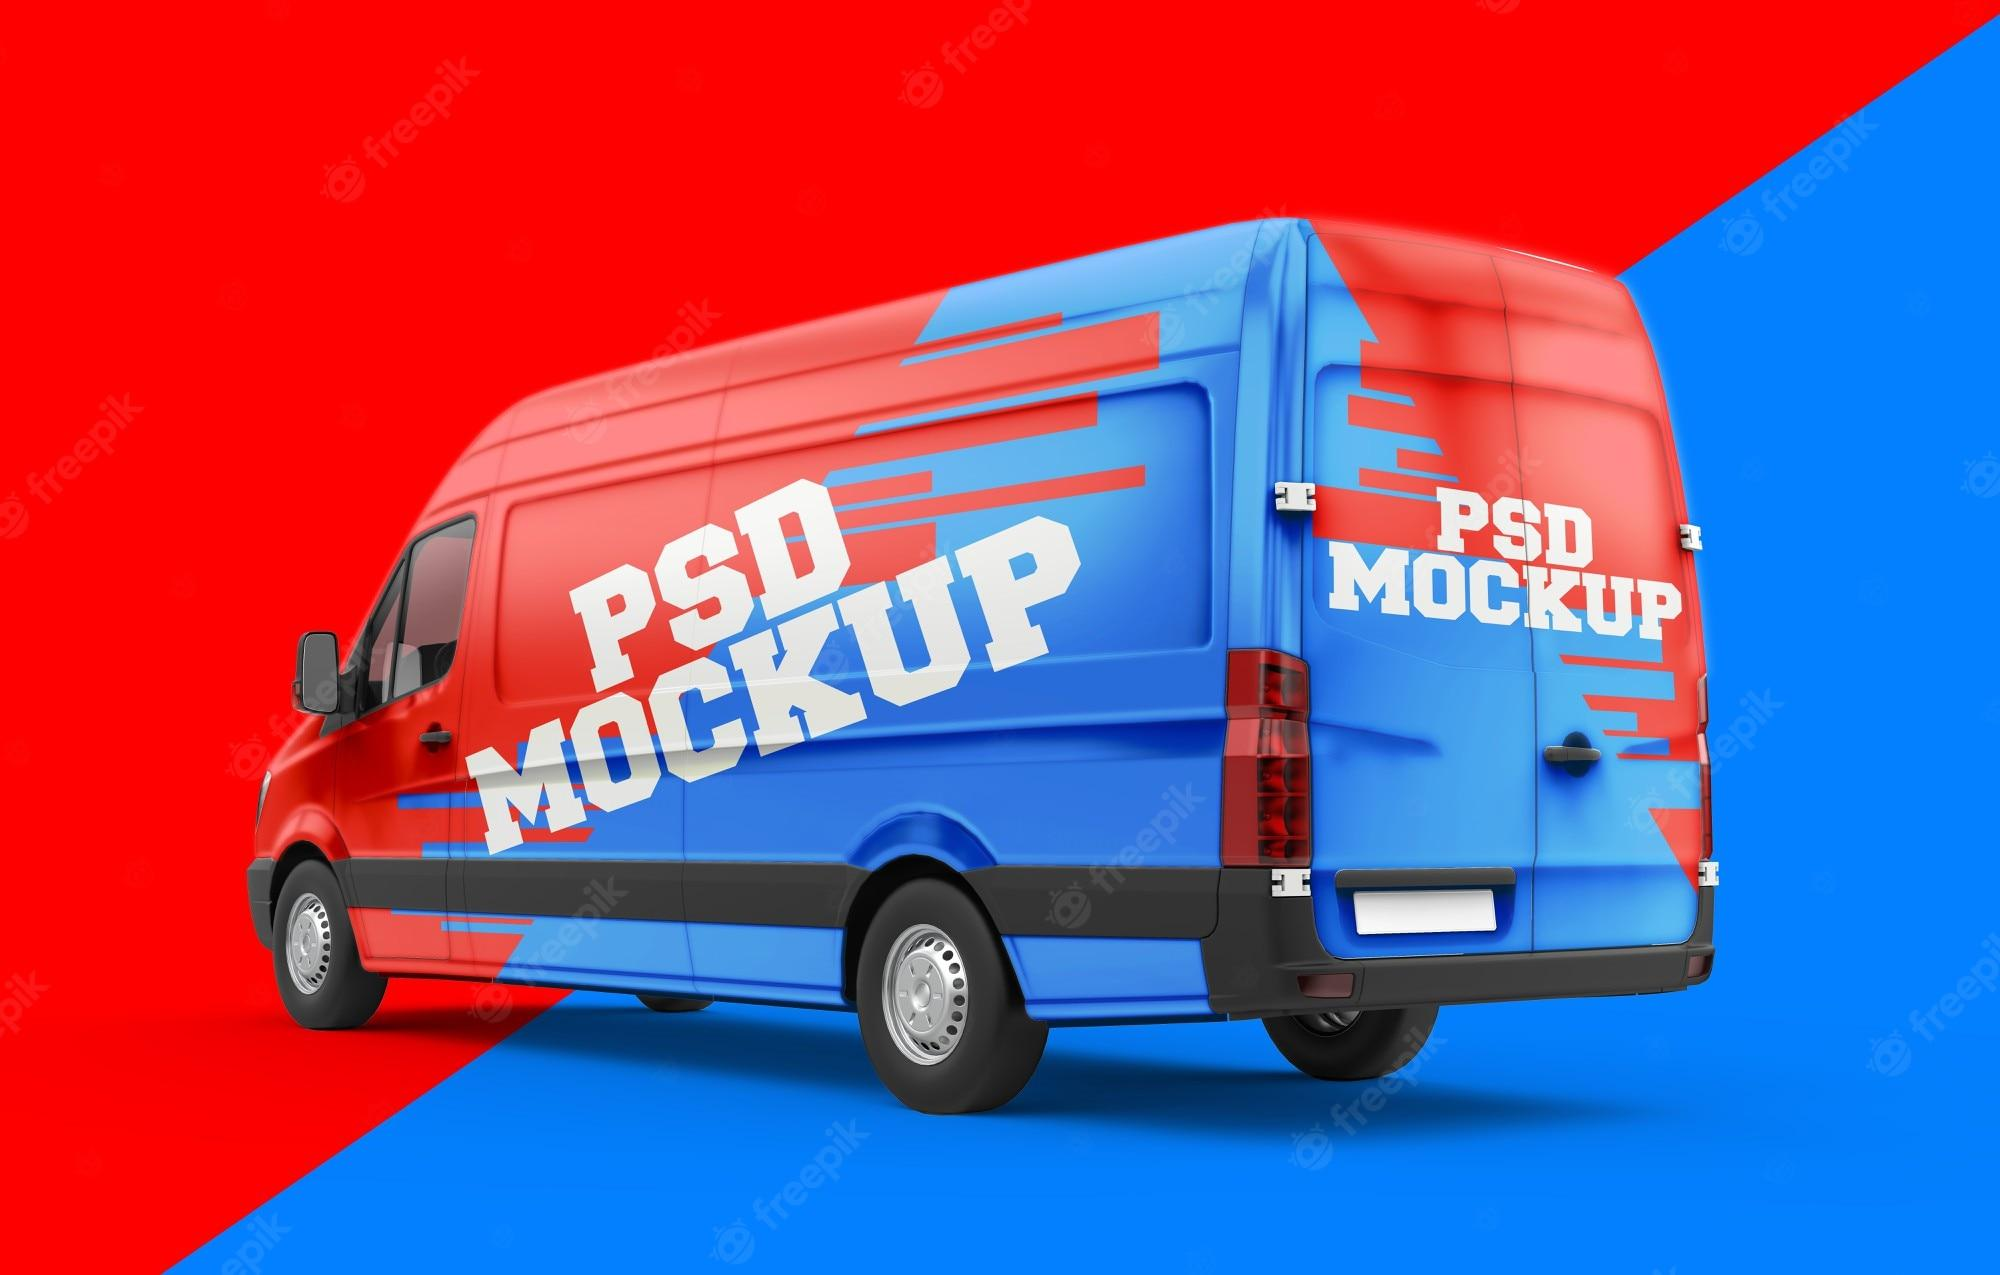van: (242, 216, 1719, 1116)
